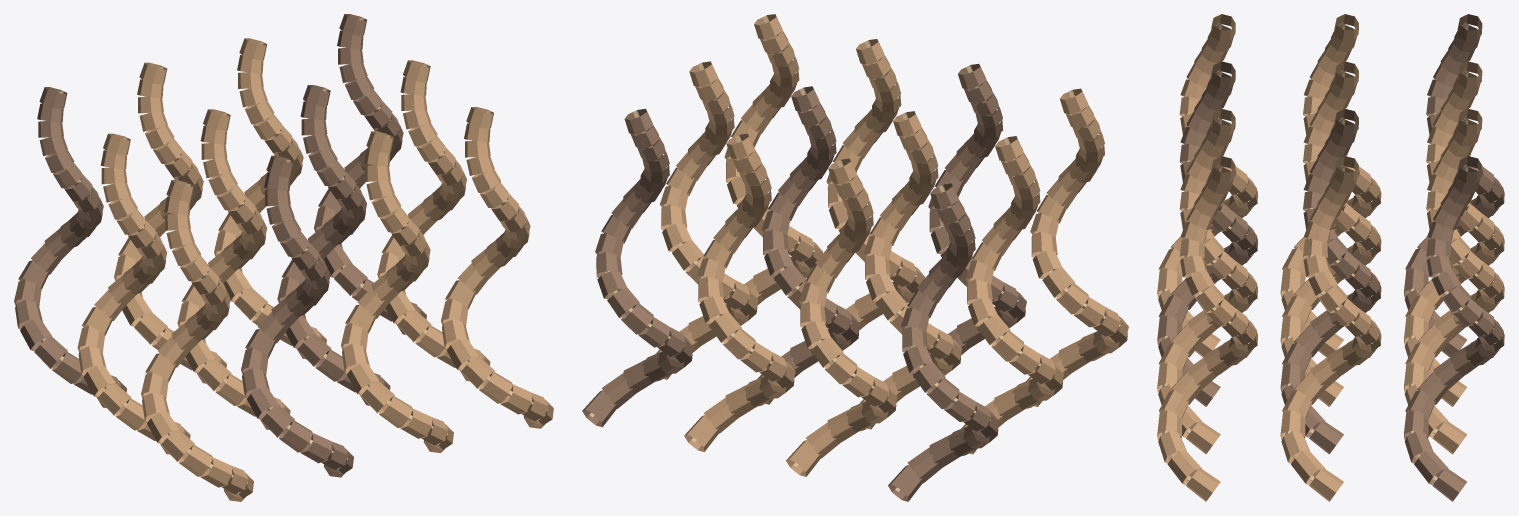
File: cinnamon.glb
3 renders of one model, left to right at view 1: azimuth 30°, elevation 25°; view 2: azimuth 150°, elevation 25°; view 3: azimuth 270°, elevation 25°, orthographic. The views are drawn at different scales.
Visible parts, largest first — view 1: cinnamon; view 2: cinnamon; view 3: cinnamon.
Part boxes in pixels (left/top/right/bottom): cinnamon: left=14, top=14, right=553, bottom=501; cinnamon: left=582, top=14, right=1128, bottom=501; cinnamon: left=1157, top=14, right=1504, bottom=501.
Size of the model in its own units: 0.8026 by 0.6266 by 0.6199.
